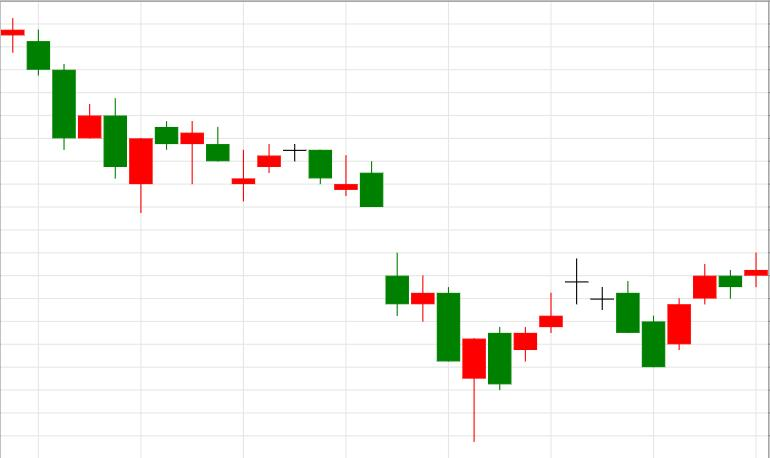hammer_rise: (360, 162, 486, 442)
